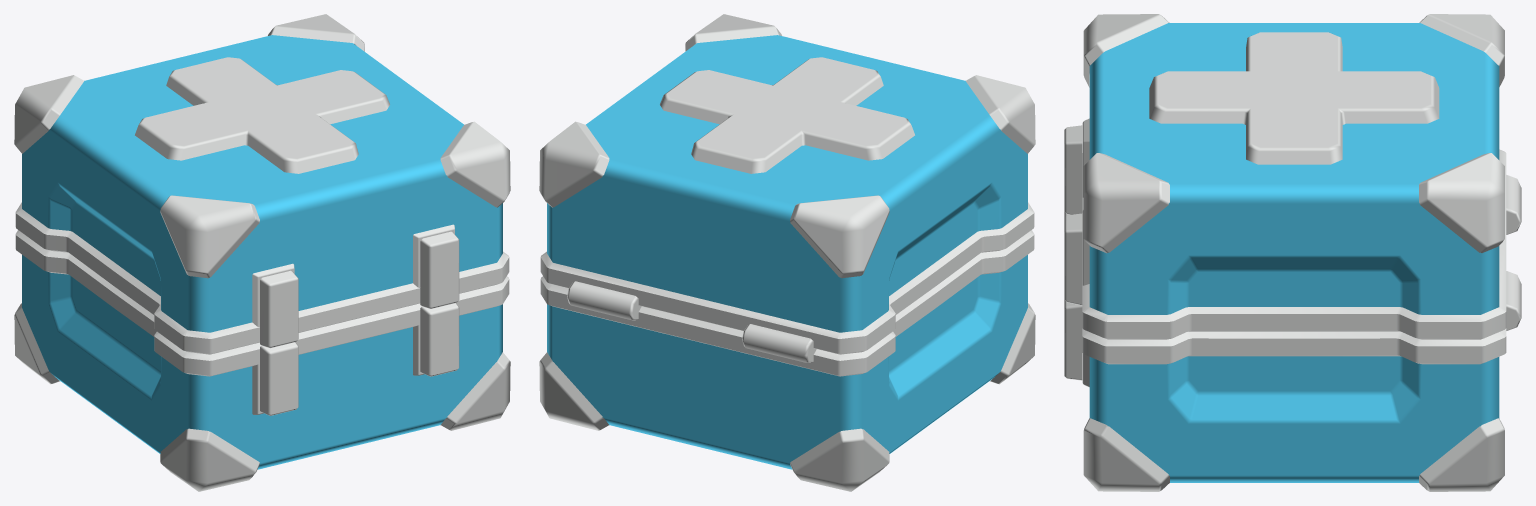
The model's file is HealKit.fbx.
3 renders of one model, left to right at view 1: azimuth 30°, elevation 25°; view 2: azimuth 150°, elevation 25°; view 3: azimuth 270°, elevation 25°, orthographic. The views are drawn at different scales.
Visible parts, largest first — view 1: Common_Skill_Healbomb; view 2: Common_Skill_Healbomb; view 3: Common_Skill_Healbomb.
Boxes of the visible parts, left/top/right/bottom form: Common_Skill_Healbomb: left=14, top=14, right=510, bottom=491; Common_Skill_Healbomb: left=539, top=14, right=1035, bottom=491; Common_Skill_Healbomb: left=1064, top=14, right=1521, bottom=491.
Bounding box in the file's own units: 0.1514 × 0.1257 × 0.1635.
1 material, 1 textured.
